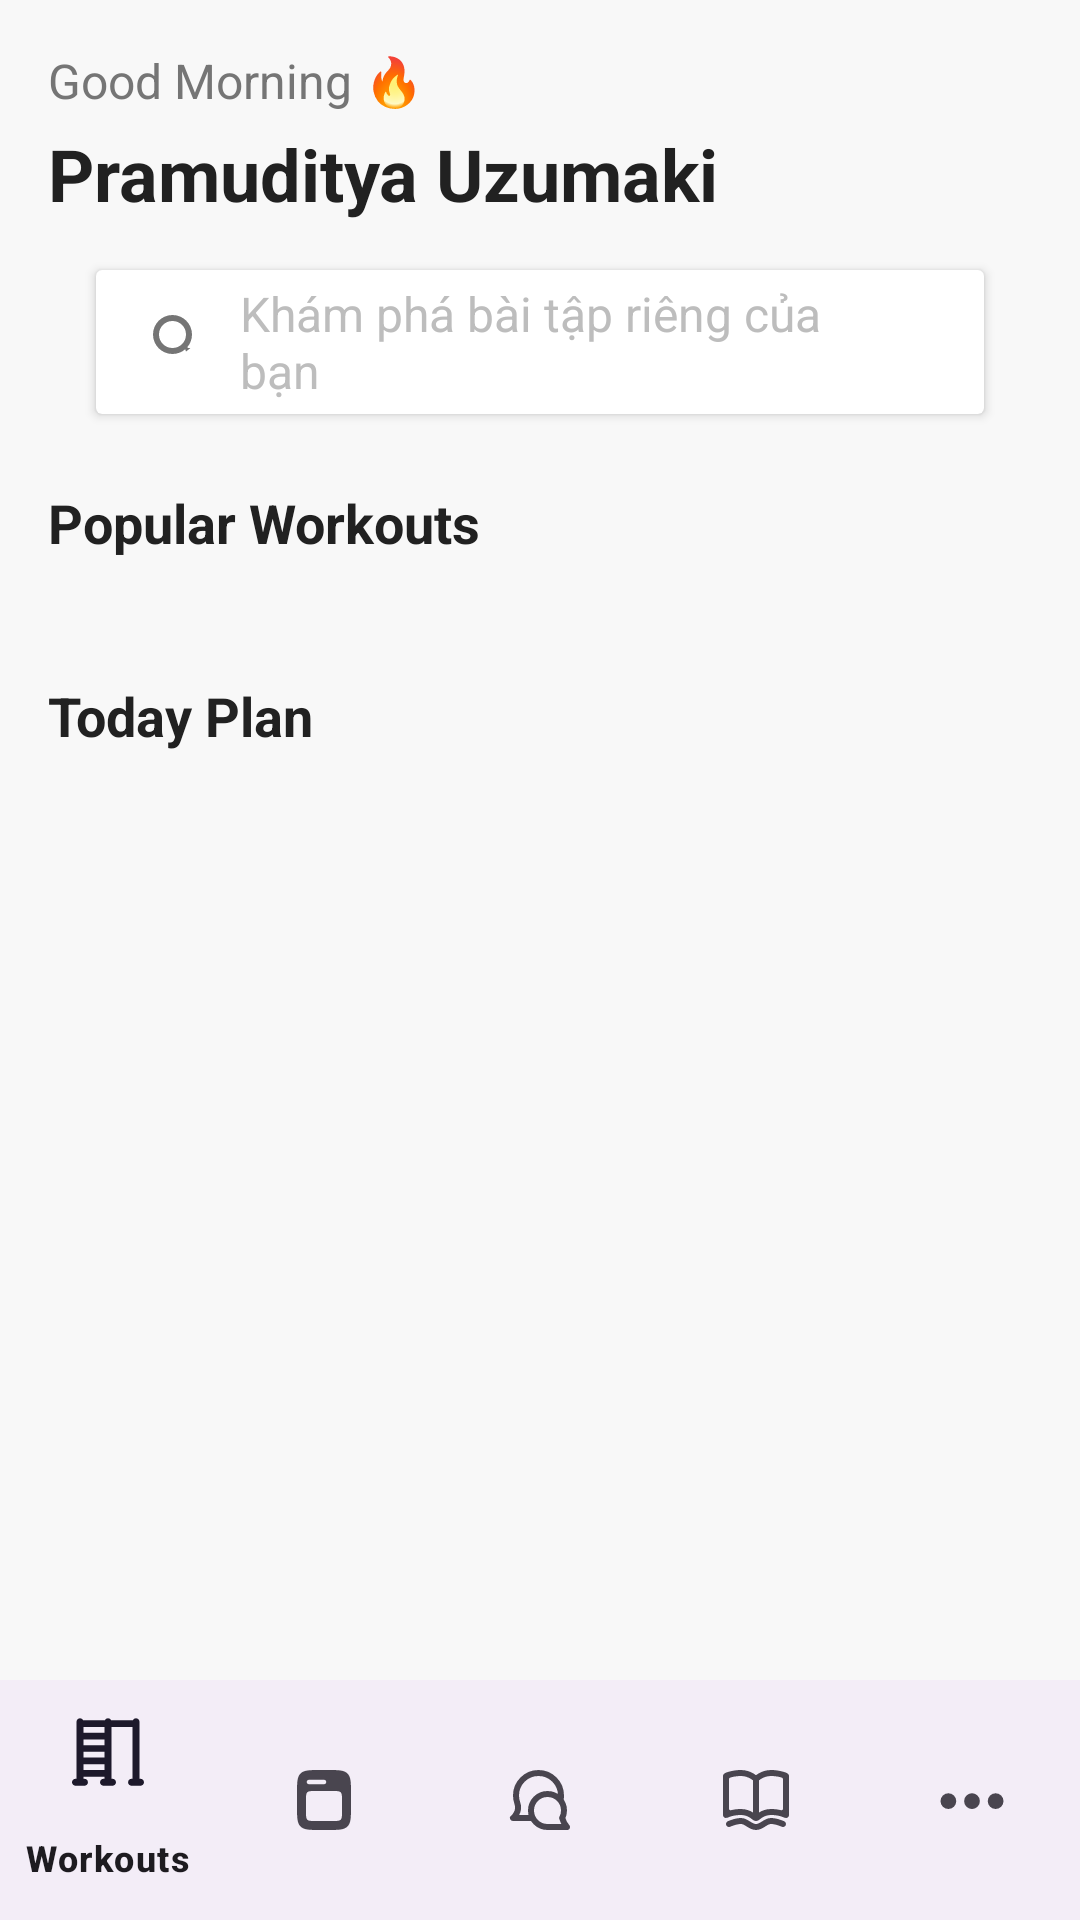

Named icons in this screenshot (1080 x 1920) and their centers, (x=x, y=y):
search: (x=172, y=334)
